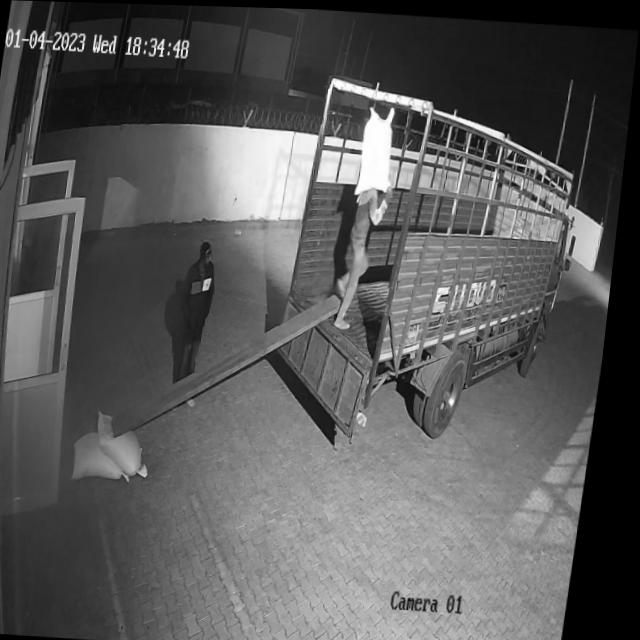sack: (98, 409, 165, 478), (357, 102, 402, 196), (80, 429, 147, 483)
